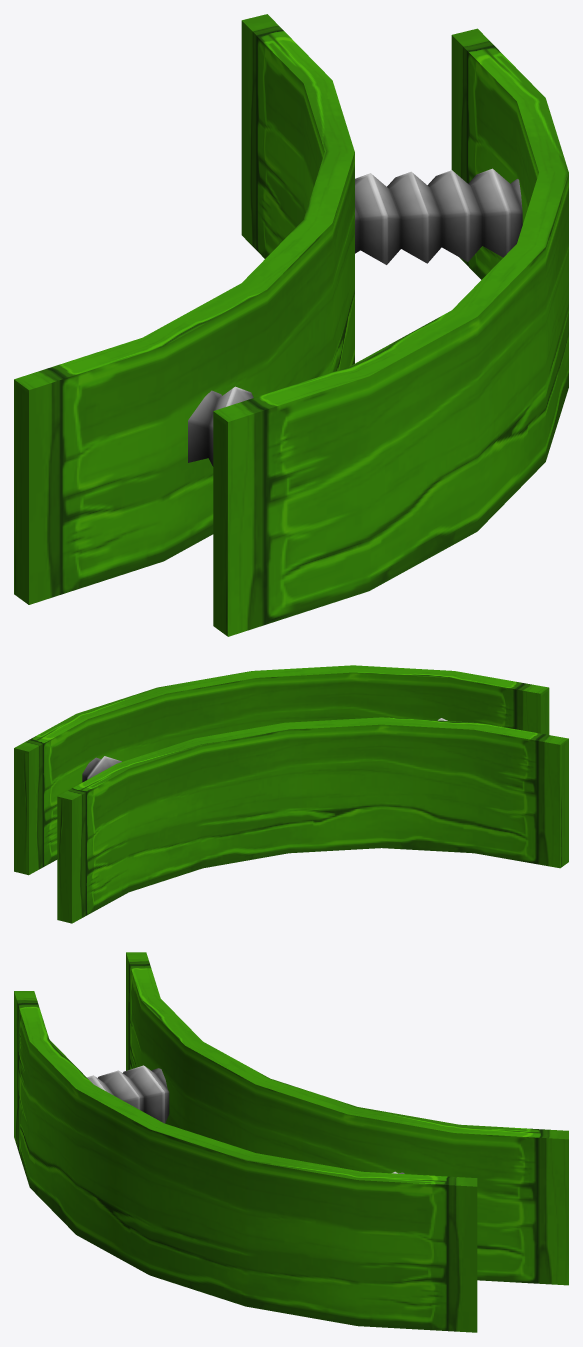
File: arched_fence_green_03.fbx
3 views of the same model, one above another, from view 1: azimuth 30°, elevation 25°; view 2: azimuth 150°, elevation 25°; view 3: azimuth 270°, elevation 25° (orthographic). The views are drawn at different scales.
Parts seen in each view (by area): view 1: arched_fence_green_03; view 2: arched_fence_green_03; view 3: arched_fence_green_03.
Part boxes in pixels (bbox=[...]): arched_fence_green_03: bbox=[14, 14, 568, 636]; arched_fence_green_03: bbox=[14, 665, 568, 923]; arched_fence_green_03: bbox=[14, 952, 568, 1332].
Size of the model in its own units: 138 by 40 by 138.
